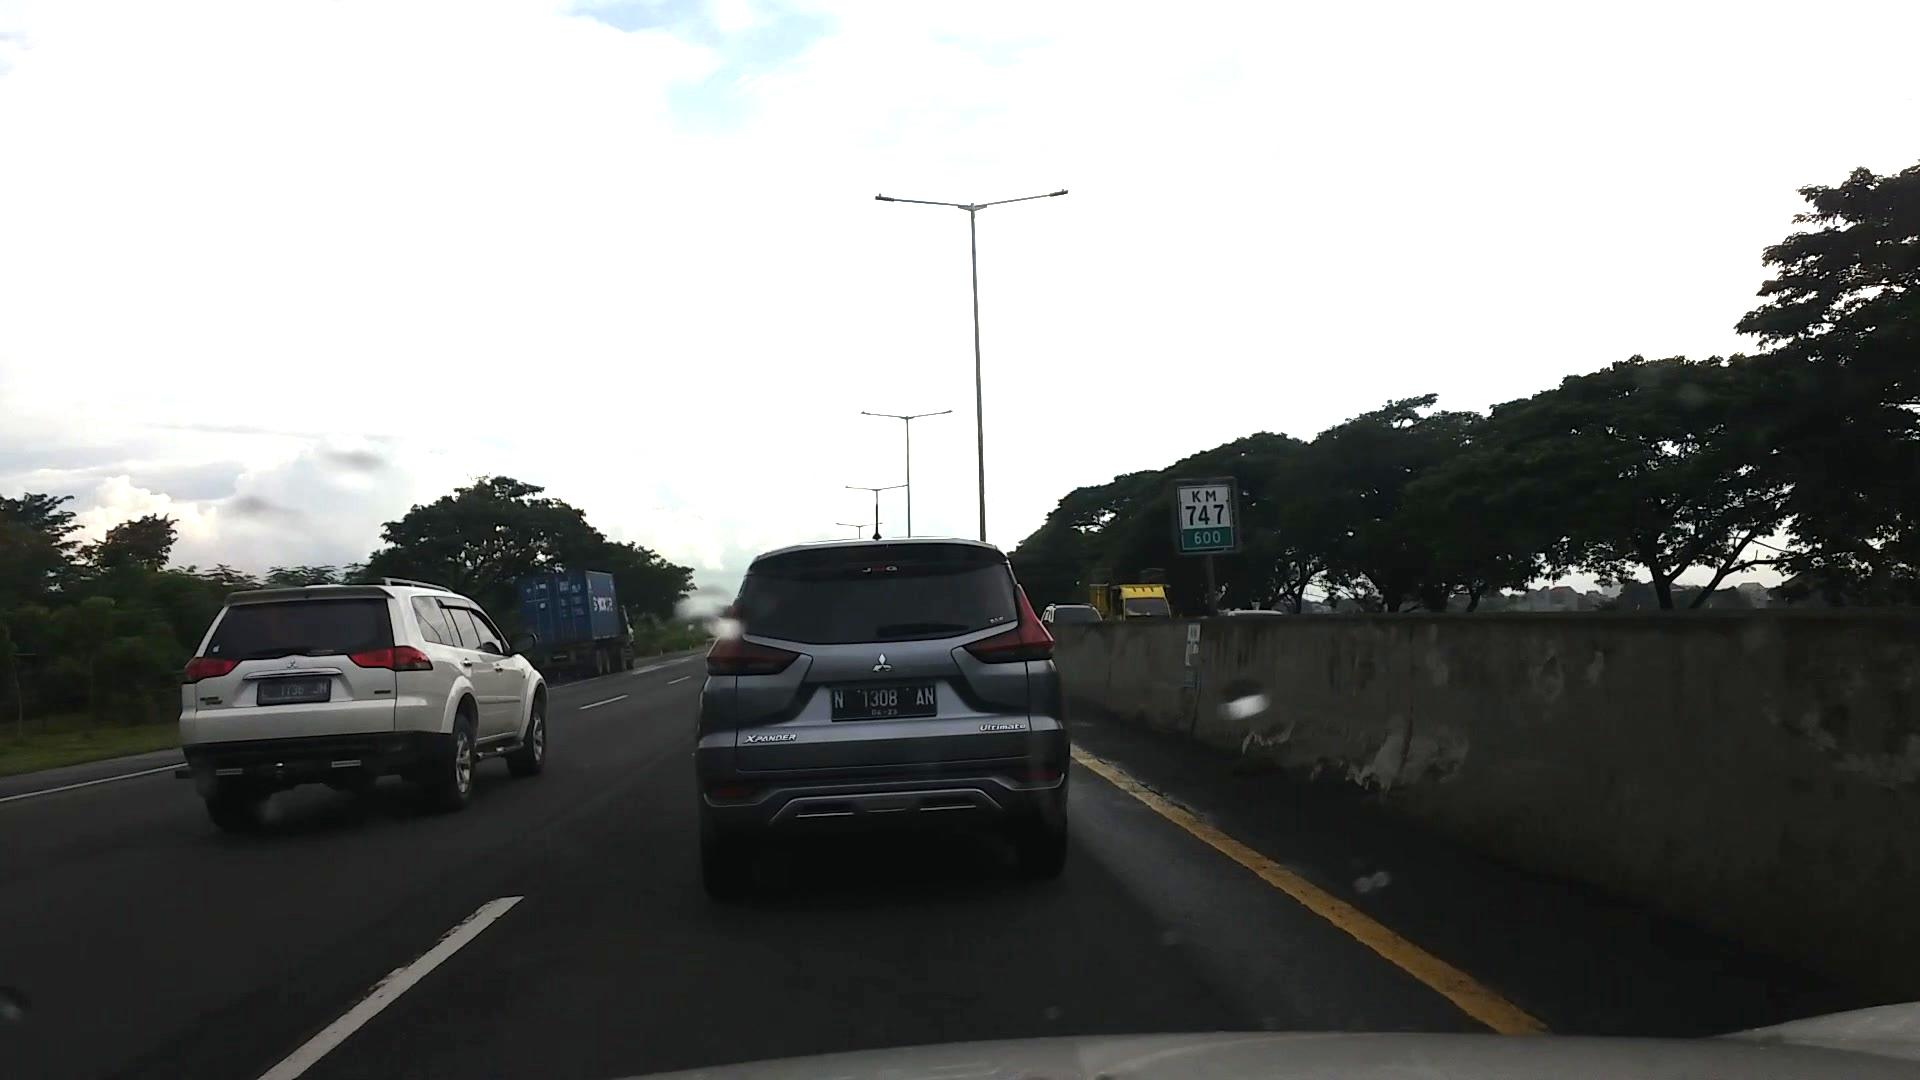plate_positive: (831, 683, 936, 721)
